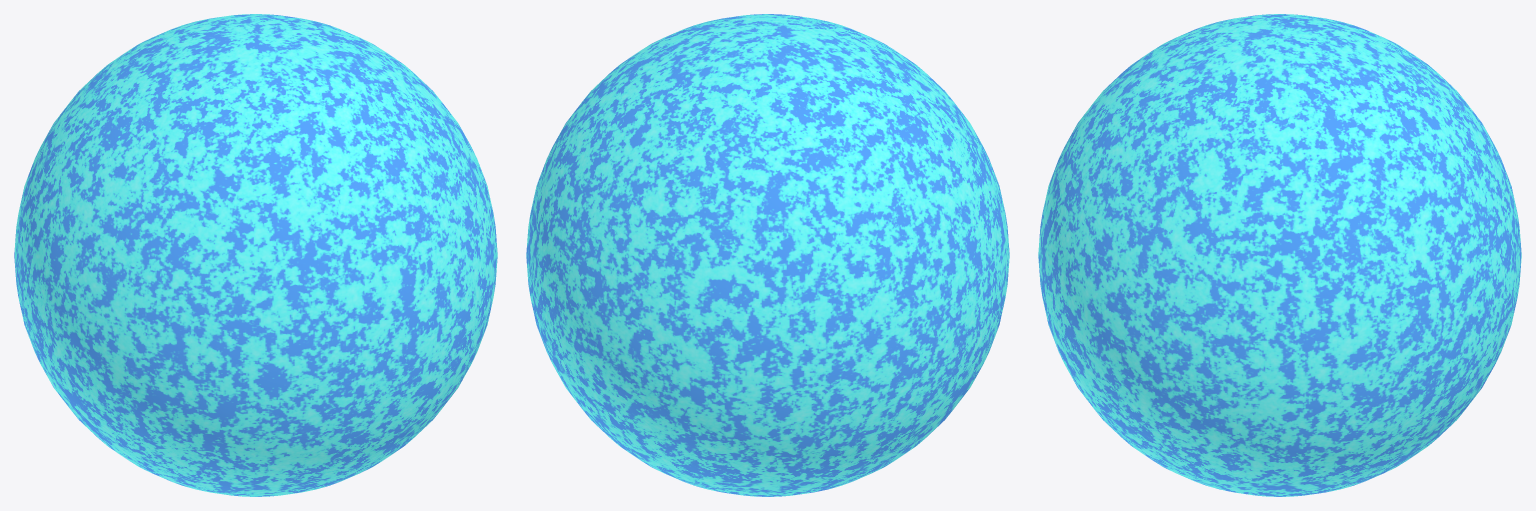
Rendered from blue.glb.
The picture shows the model from 3 angles, left to right: view 1: azimuth 30°, elevation 25°; view 2: azimuth 150°, elevation 25°; view 3: azimuth 270°, elevation 25°; orthographic projection.
Parts seen in each view (by area): view 1: Sphere; view 2: Sphere; view 3: Sphere.
Boxes of the visible parts, bbox=[...] form: Sphere: bbox=[14, 14, 497, 496]; Sphere: bbox=[526, 14, 1009, 496]; Sphere: bbox=[1038, 14, 1521, 496].
Bounding box in the file's own units: 2 × 2 × 2.
1 material, 1 textured.
